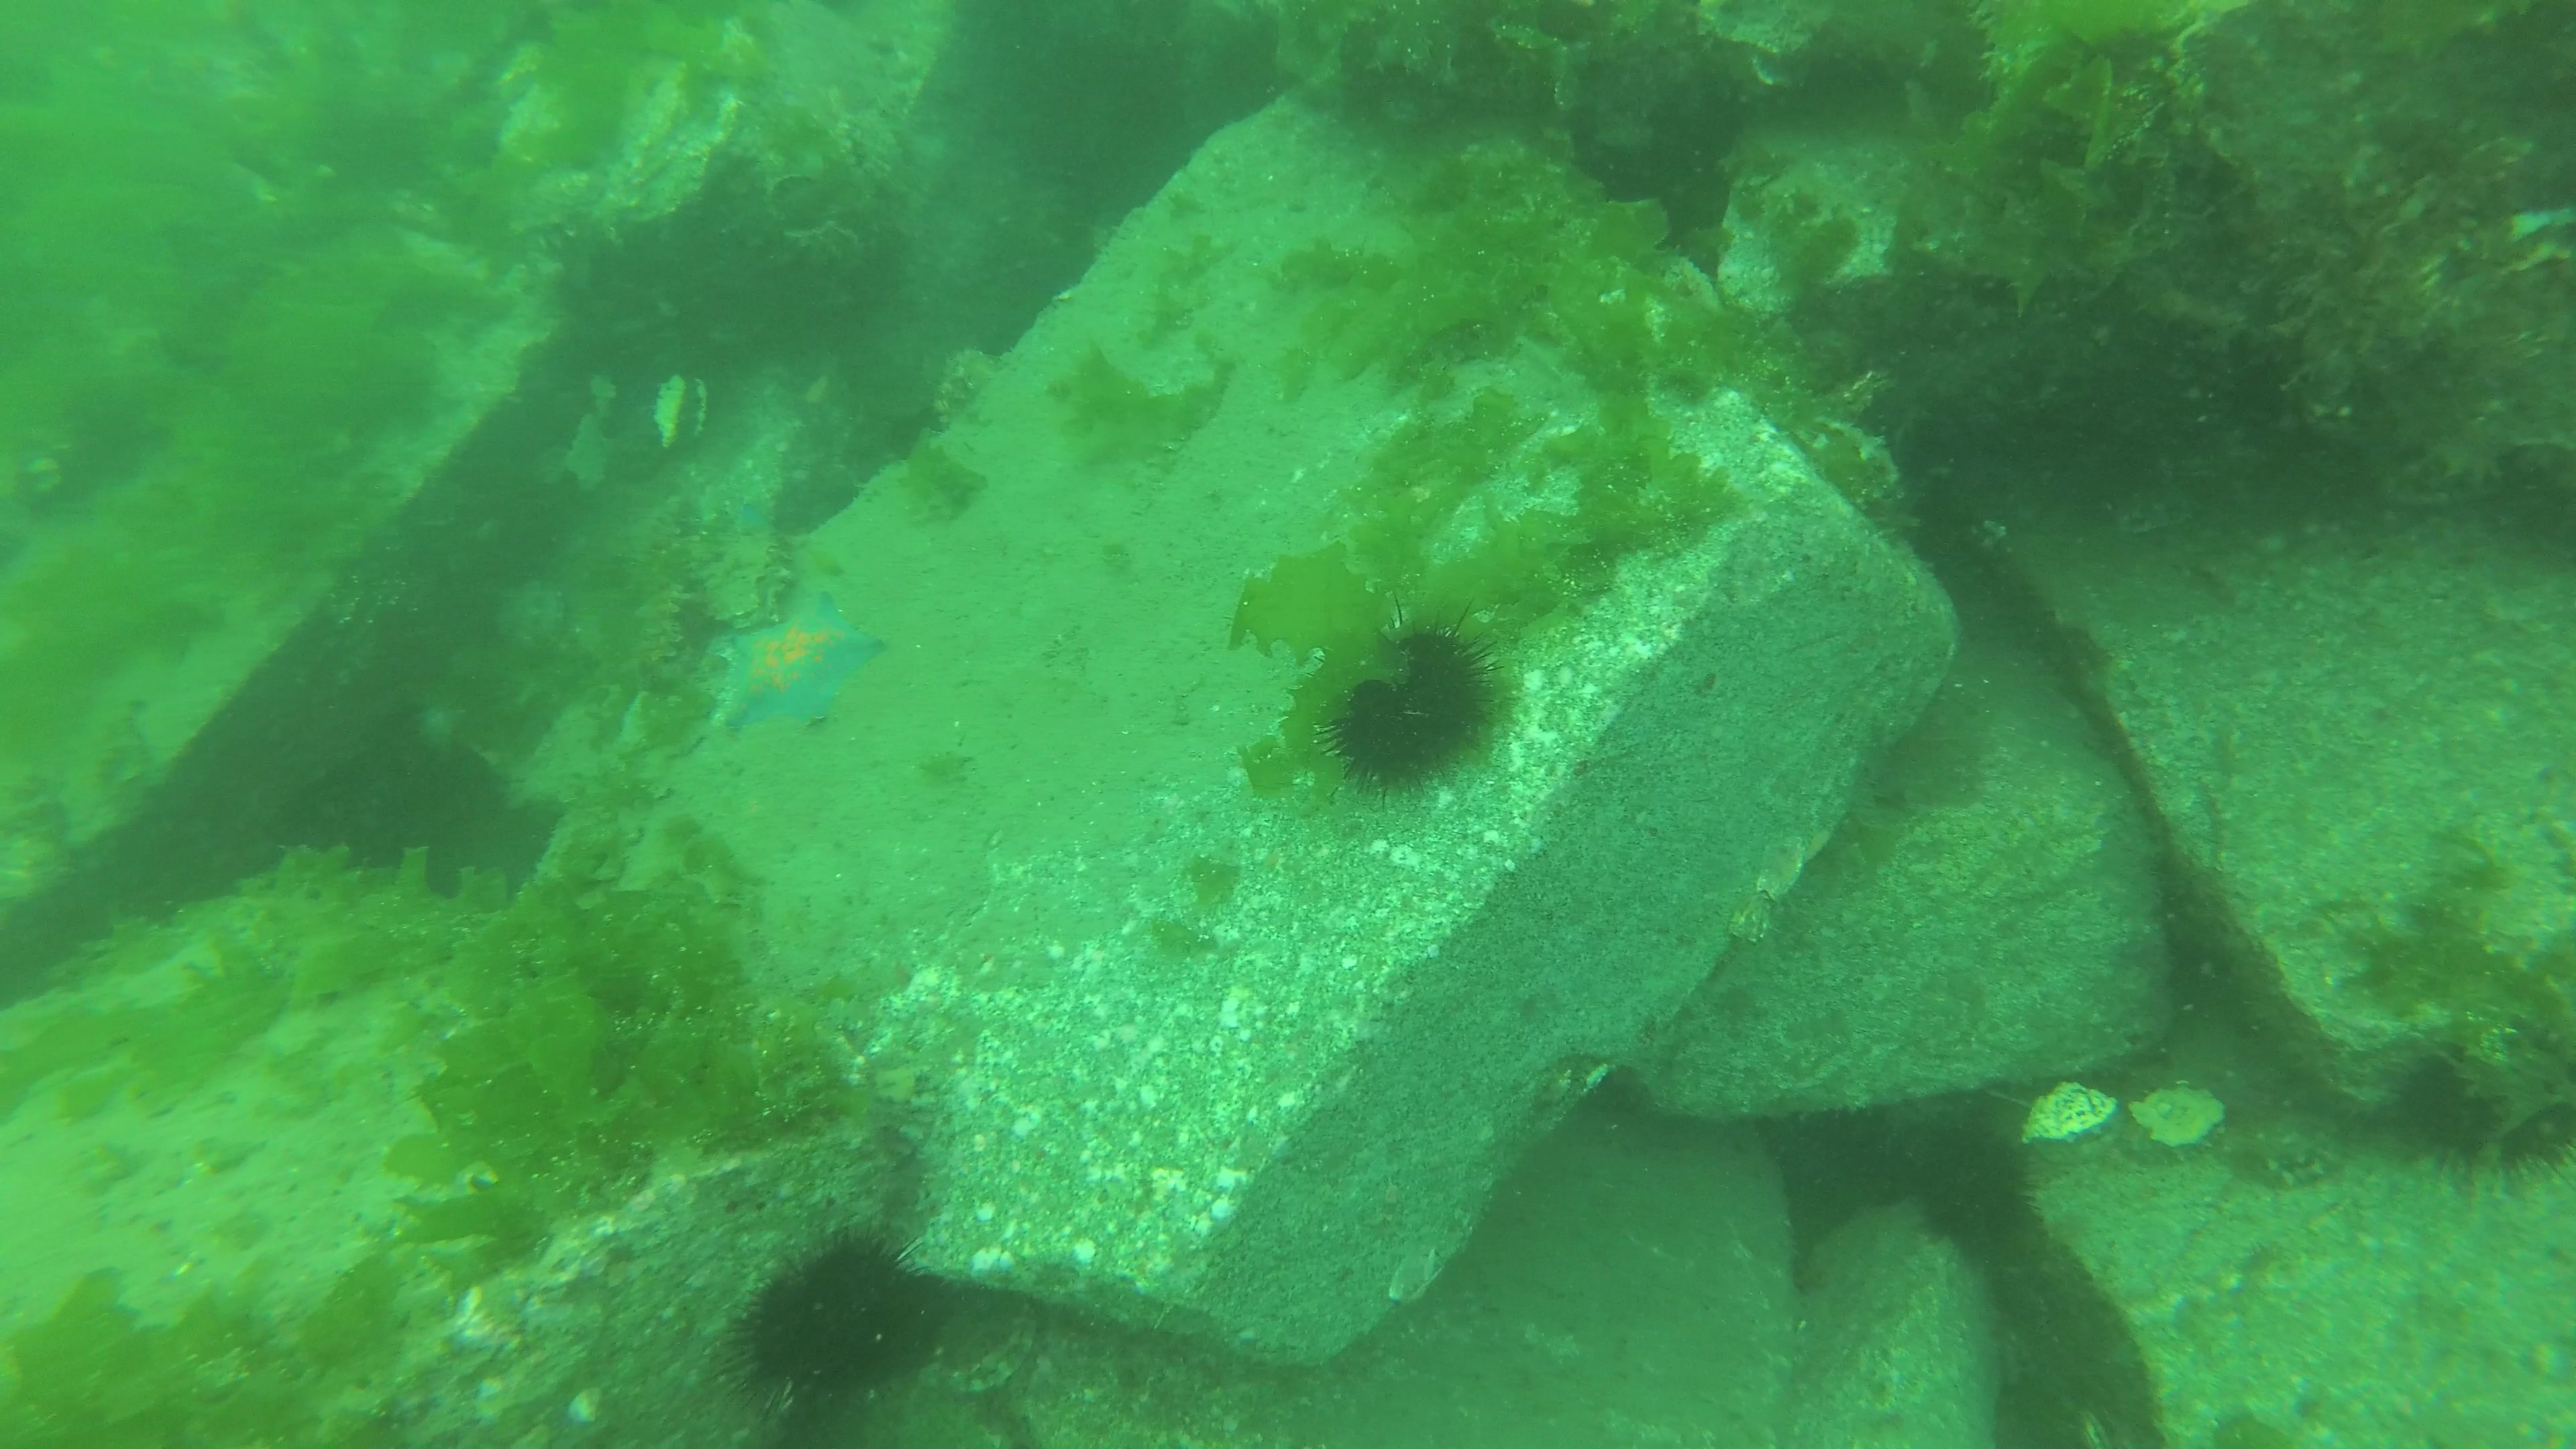echinus: (740, 1235, 950, 1414), (1327, 623, 1493, 796), (2399, 1037, 2574, 1175), (1920, 1120, 2038, 1260)
starfish: (706, 589, 886, 731)
